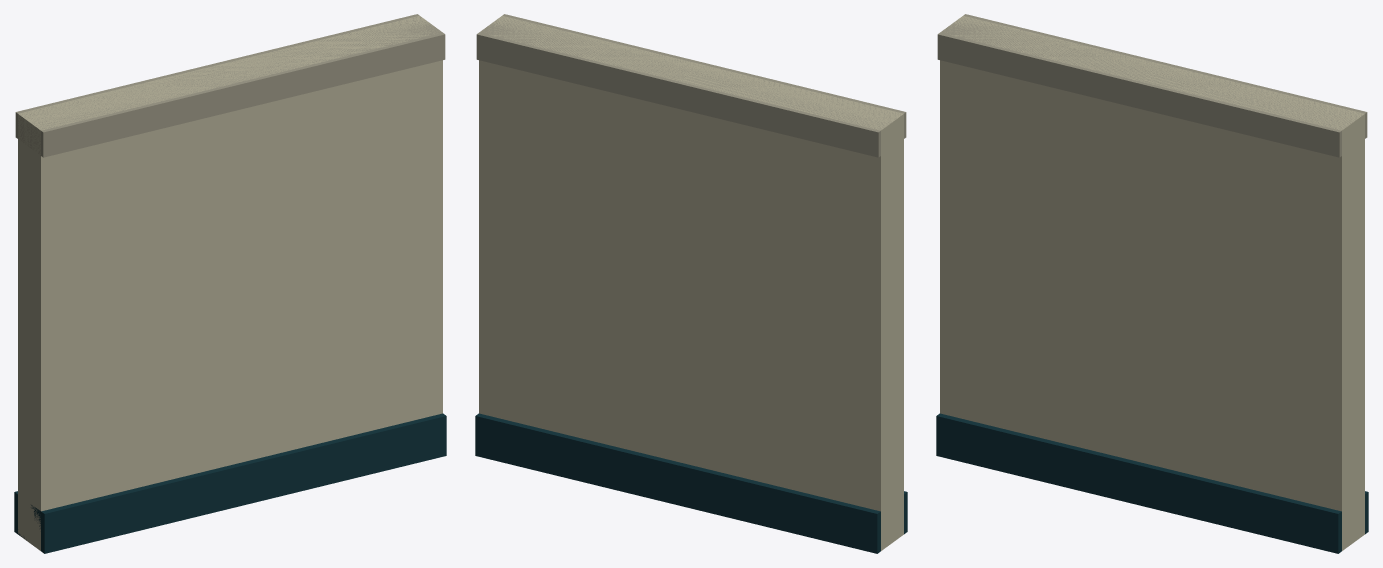
The model's file is WP_A05_wall_4m_v02.glb.
3 renders of one model, left to right at view 1: azimuth 30°, elevation 25°; view 2: azimuth 150°, elevation 25°; view 3: azimuth 330°, elevation 25°, orthographic.
Parts seen in each view (by area): view 1: Wall; view 2: Wall; view 3: Wall.
Boxes of the visible parts, x1,y1,x2,y2 form: Wall: [14, 14, 446, 553]; Wall: [475, 14, 907, 553]; Wall: [936, 14, 1368, 553].
Bounding box in the file's own units: 4 × 4 × 0.52.
